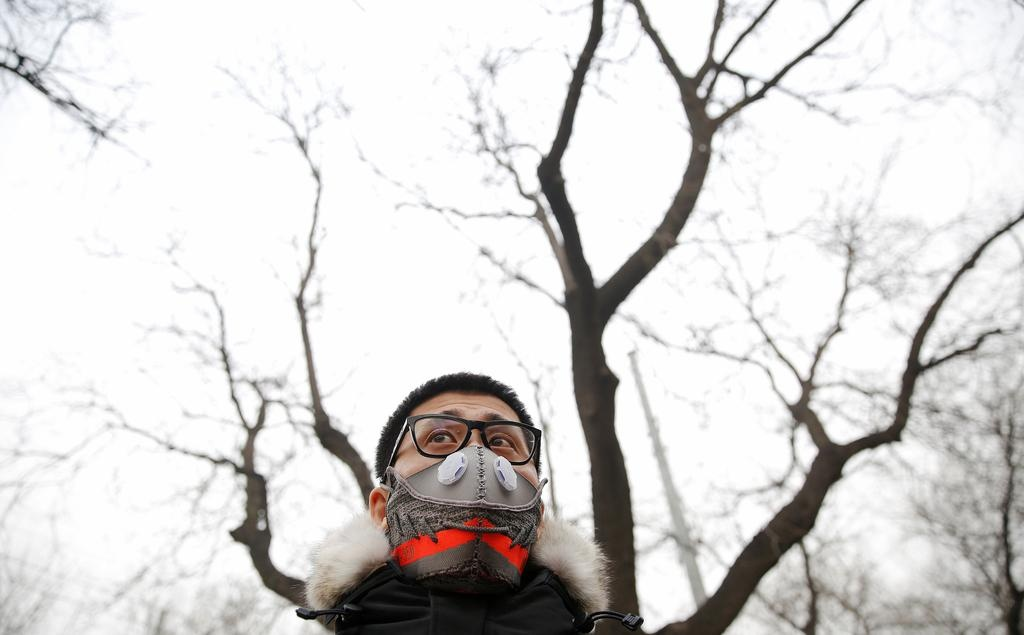Mask: (380, 404, 567, 590)
